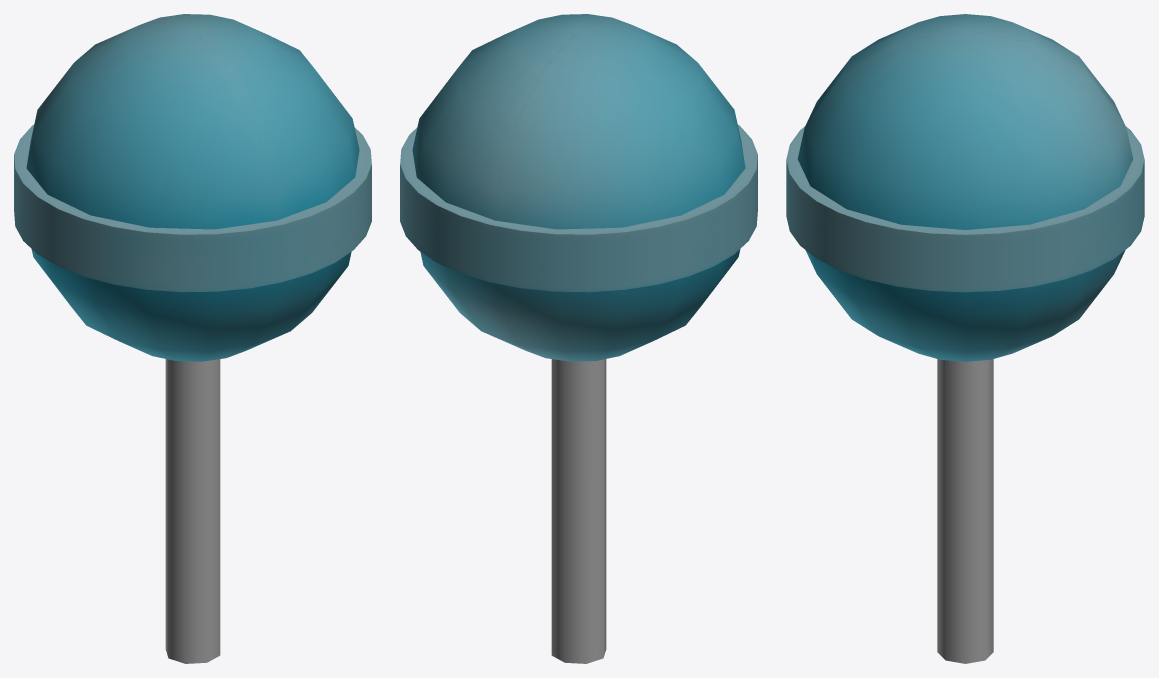
File: LollipopSmall.glb
3 views of the same model, side by side, from view 1: azimuth 30°, elevation 25°; view 2: azimuth 150°, elevation 25°; view 3: azimuth 270°, elevation 25° (orthographic).
Visible parts, largest first — view 1: geometry_0; view 2: geometry_0; view 3: geometry_0.
Boxes of the visible parts, <box> form: geometry_0: <box>14,14,371,663</box>; geometry_0: <box>400,14,757,663</box>; geometry_0: <box>786,14,1144,663</box>.
Bounding box in the file's own units: 0.5226 × 1 × 0.5226.
1 material, 1 textured.
